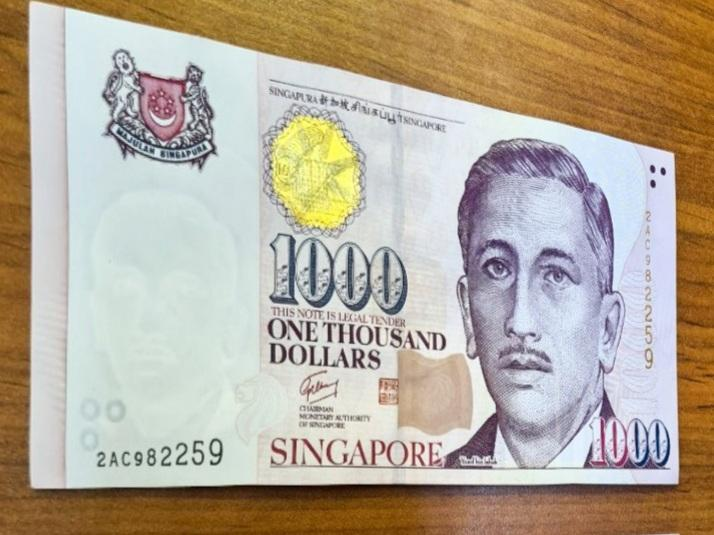1000SingaporeDollar: (37, 49, 674, 483)
